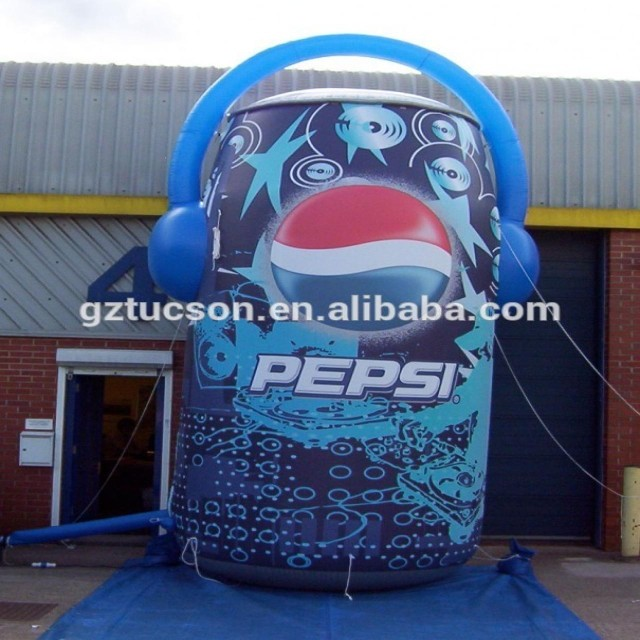pepsi: (268, 186, 456, 334)
